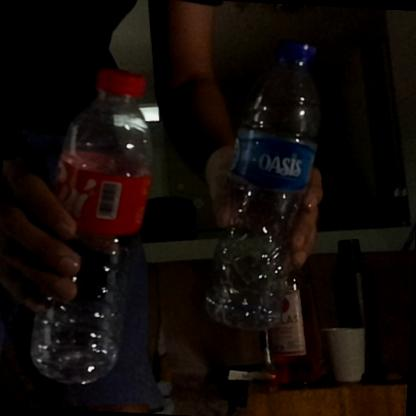plastic_bottles: (29, 61, 156, 382), (209, 38, 326, 326)
